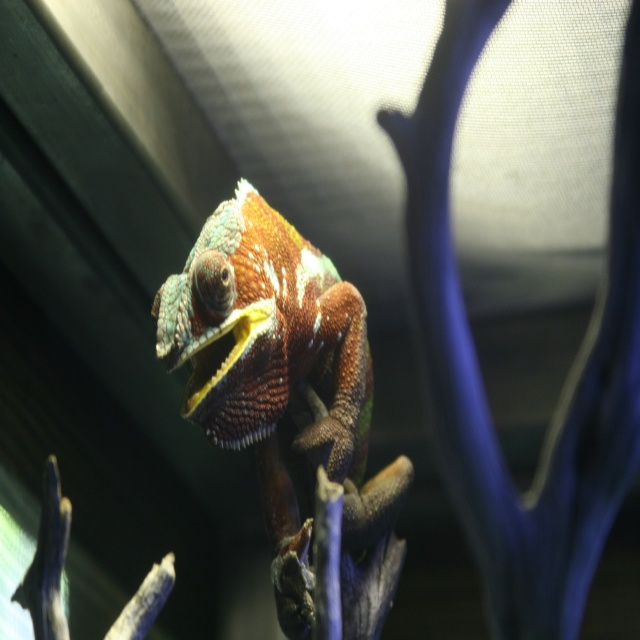Lizard: (141, 180, 378, 538)
